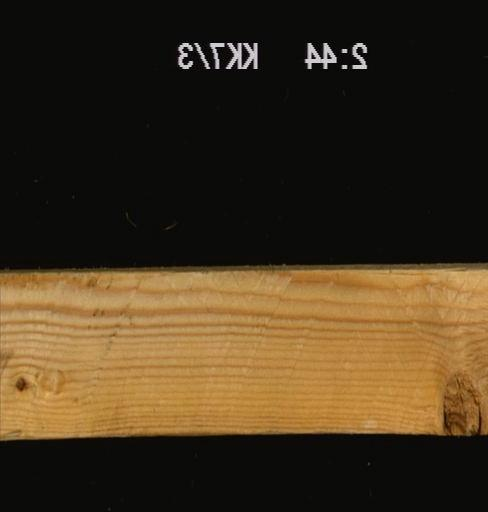dry_knot: (11, 369, 30, 395)
edge_knot: (439, 367, 486, 433)
